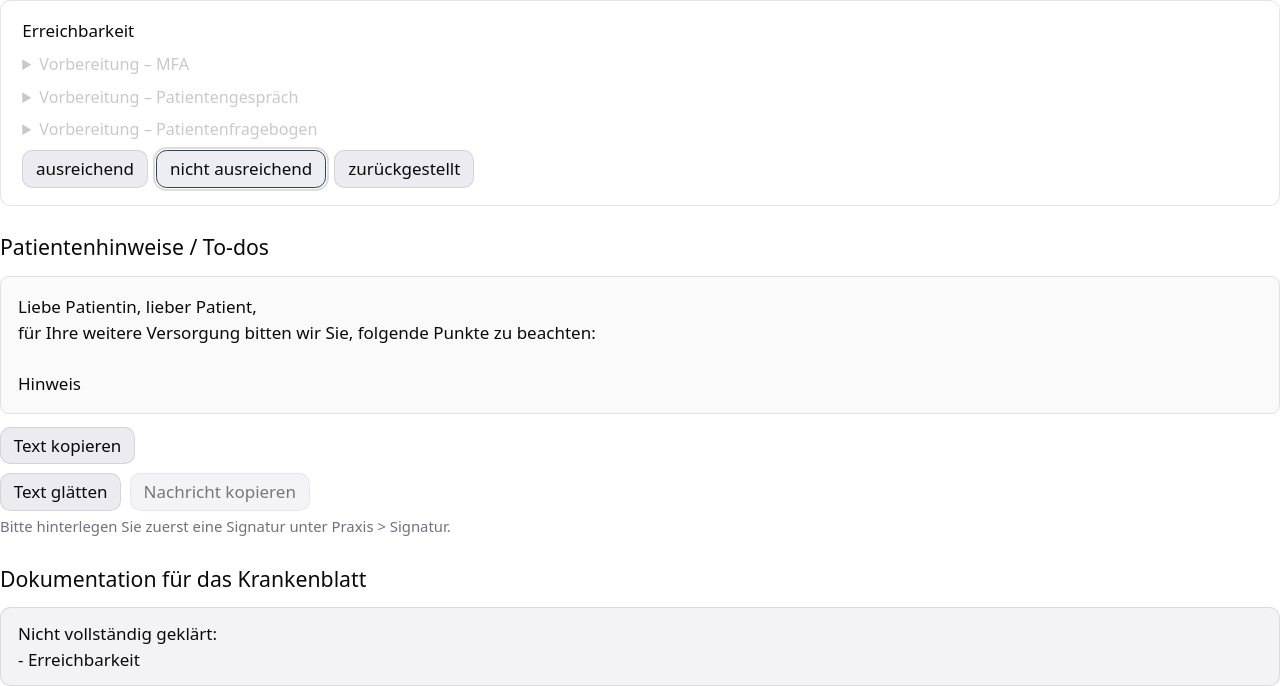
Test case: M3-Bewertungen zwischenspeichern › zeigt bei Speicherfehlern eine Warnung und behauptet keinen neuen gespeicherten Status
Click the button "ausreichend": (85, 169) [22,150,148,188]
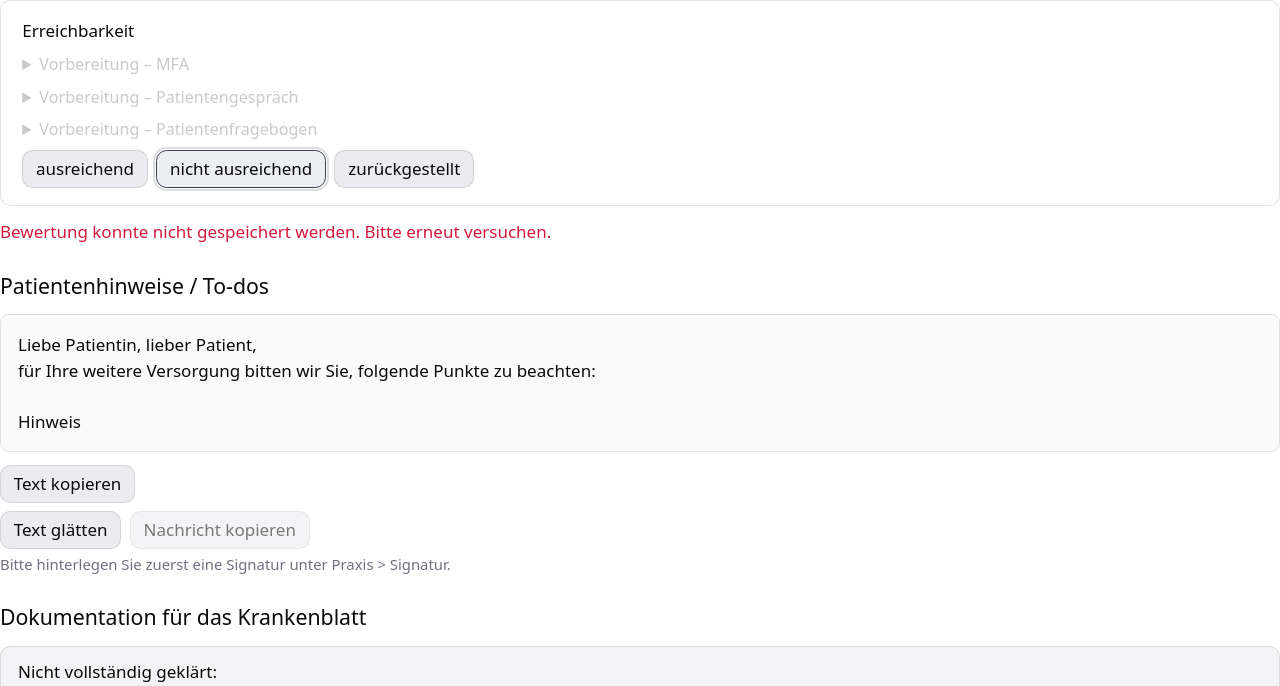
Now the message "Bewertung konnte nicht gespeichert werden. Bitte erneut versuchen." is shown, box [0,220,551,243]
